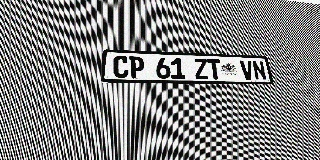plate: (102, 49, 274, 84)
